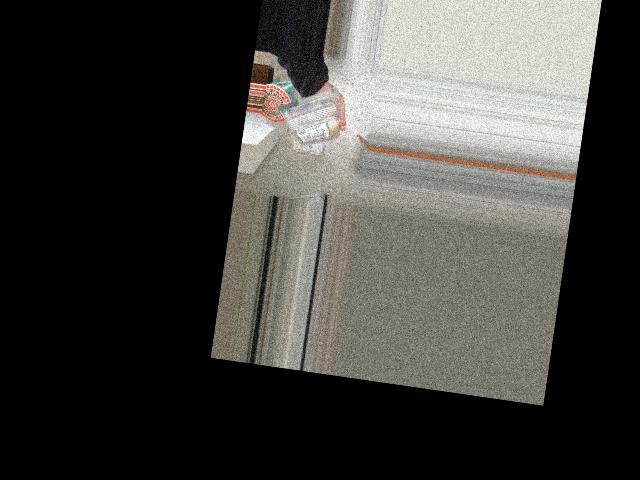cheese: (267, 79, 344, 162)
